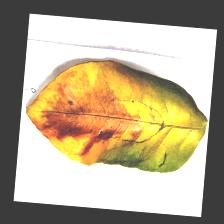black spot: (35, 80, 139, 157)
